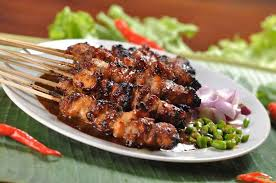sate: (33, 35, 257, 160)
